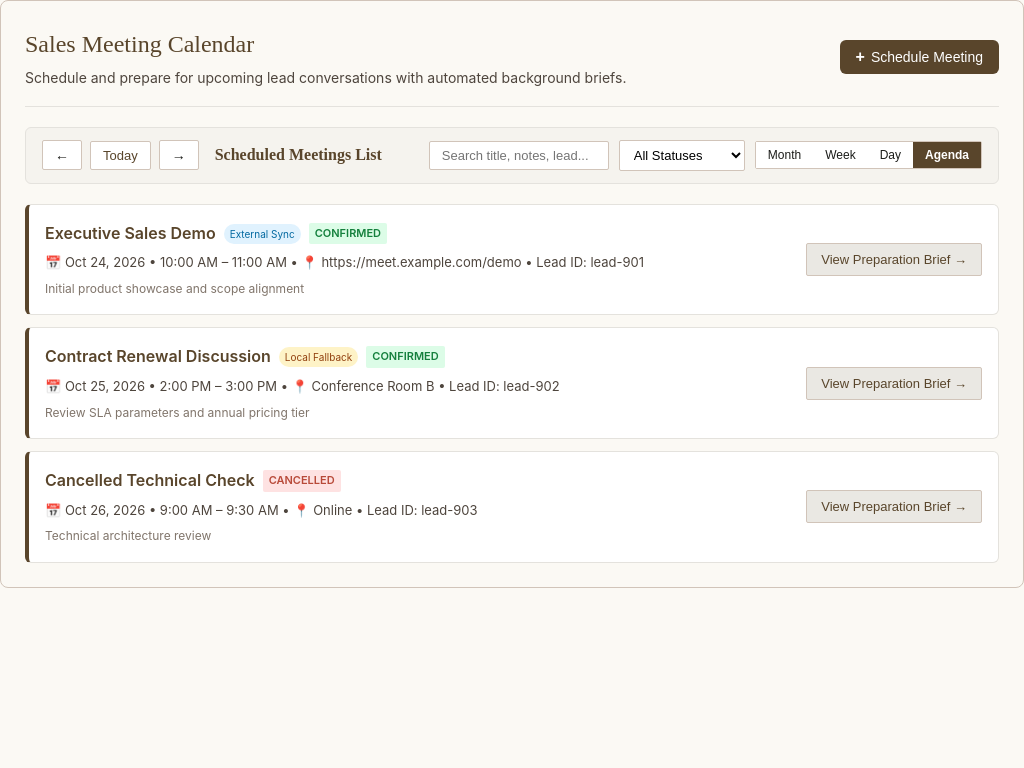
Test case: CalendarView Component (Feature 005 - T026) › Preparation Brief Drawer (FR-7) › closes Brief Drawer when close button is clicked
The image size is (1024, 768).
Click the element with test id "meeting-card-evt-001" at [512, 260], box [25,204,999,315]
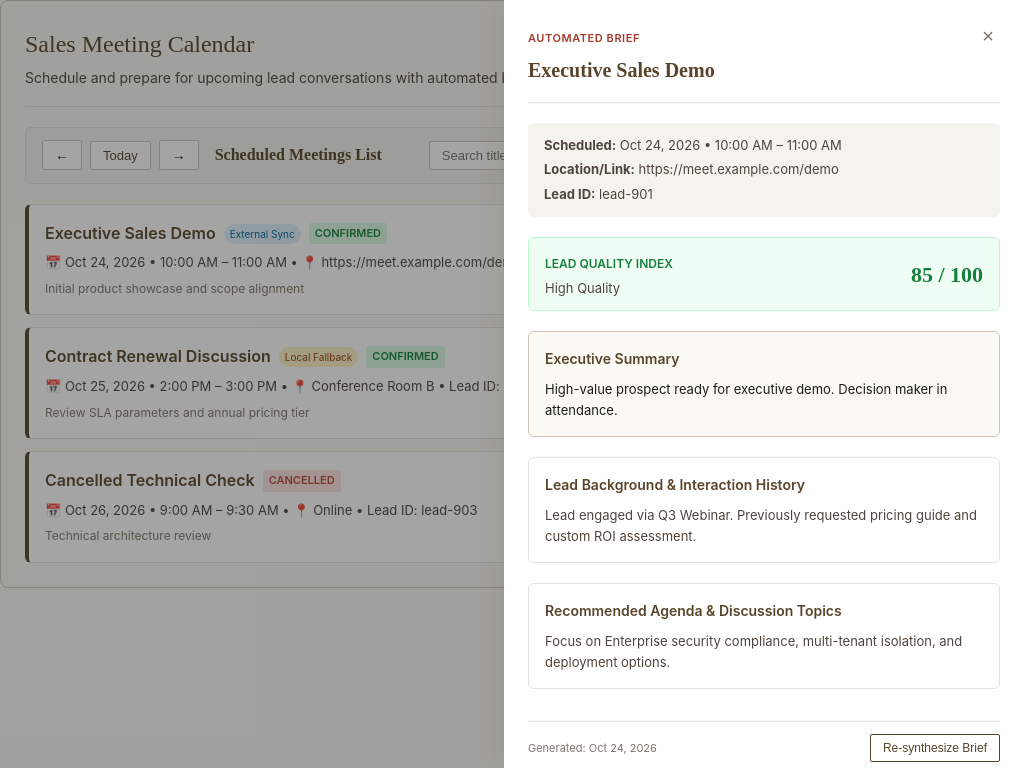
Expected: the button with test id "close-brief-btn" is shown
Click the button with test id "close-brief-btn" at [988, 36], box [976,24,1000,49]
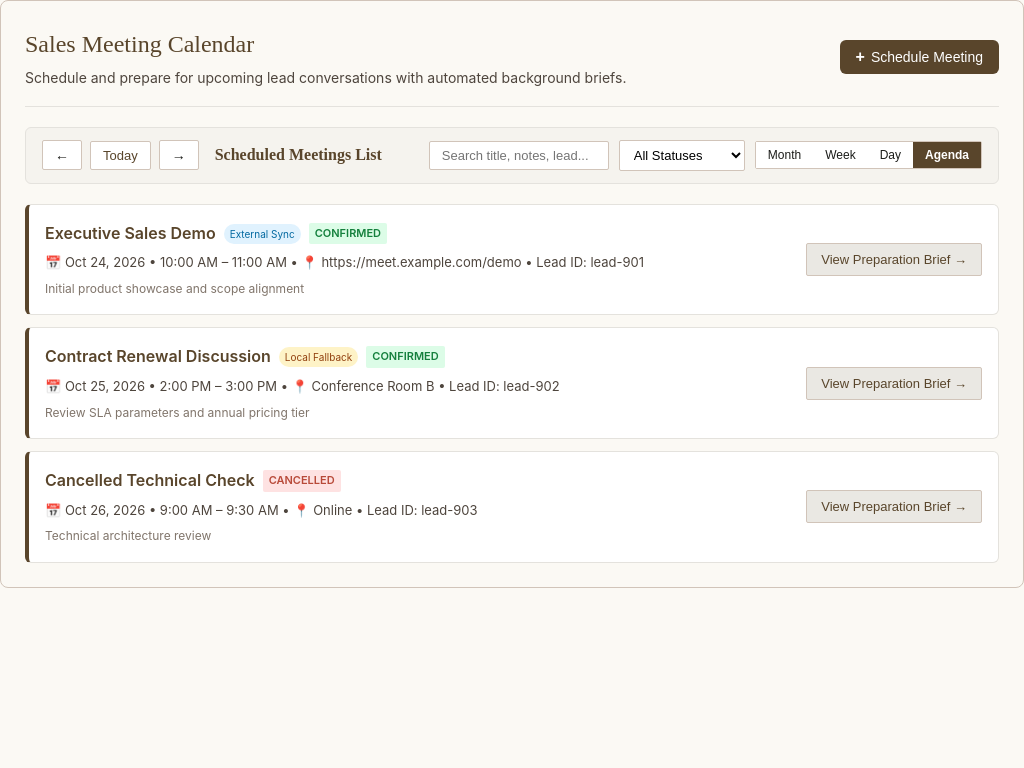
Expected: the dialog with test id "brief-drawer" is gone
